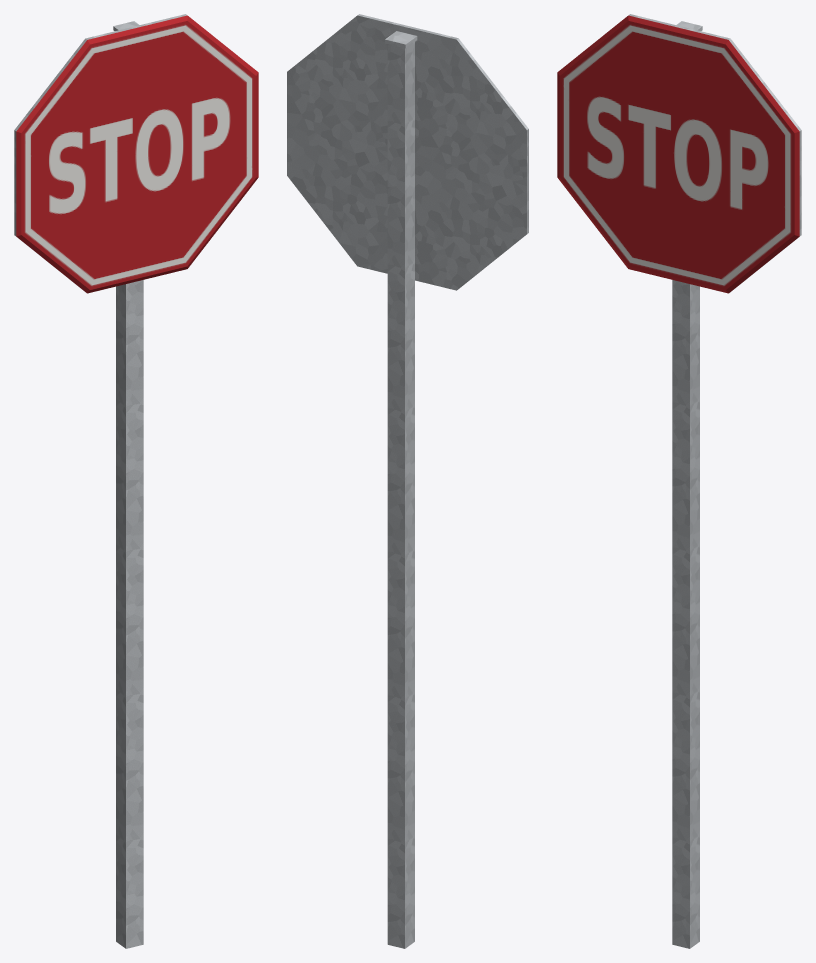
Rendered from stop_sign.gltf.
3 renders of one model, left to right at view 1: azimuth 30°, elevation 25°; view 2: azimuth 150°, elevation 25°; view 3: azimuth 330°, elevation 25°, orthographic.
Parts seen in each view (by area): view 1: stop_sign; view 2: stop_sign; view 3: stop_sign.
Boxes of the visible parts, box(x1,y1,x2,y2) form: stop_sign: box(14, 14, 258, 948); stop_sign: box(287, 14, 528, 948); stop_sign: box(557, 14, 801, 948).
Size of the model in its own units: 0.874 by 3.17 by 0.0943.
2 materials, 2 textured.
